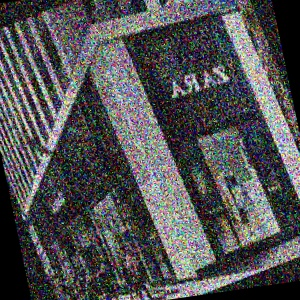zara: (103, 8, 292, 119), (30, 101, 118, 292)
